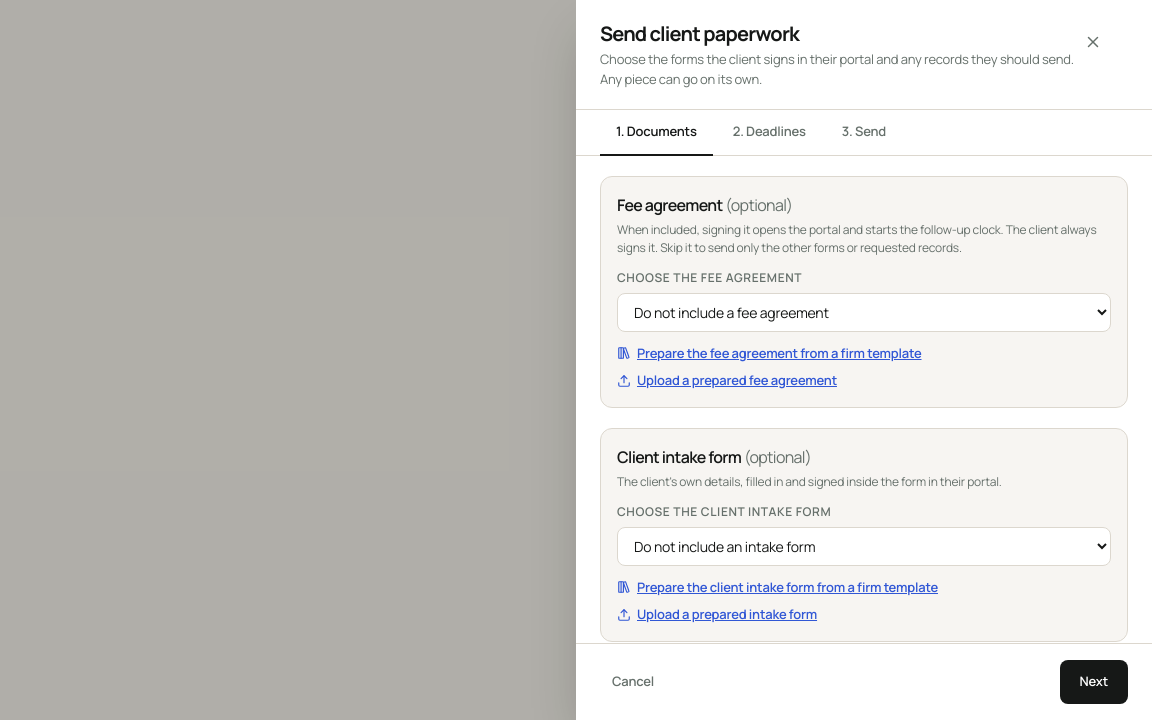
Test case: previews the exact branded message the client will receive
The width and height of the screenshot is (1152, 720).
# The preview waits for a sendable draft.
Step 1. Select "Client intake form.pdf" in the dropdown labelled "Choose the client intake form" → (864, 546), box [617,526,1111,566]
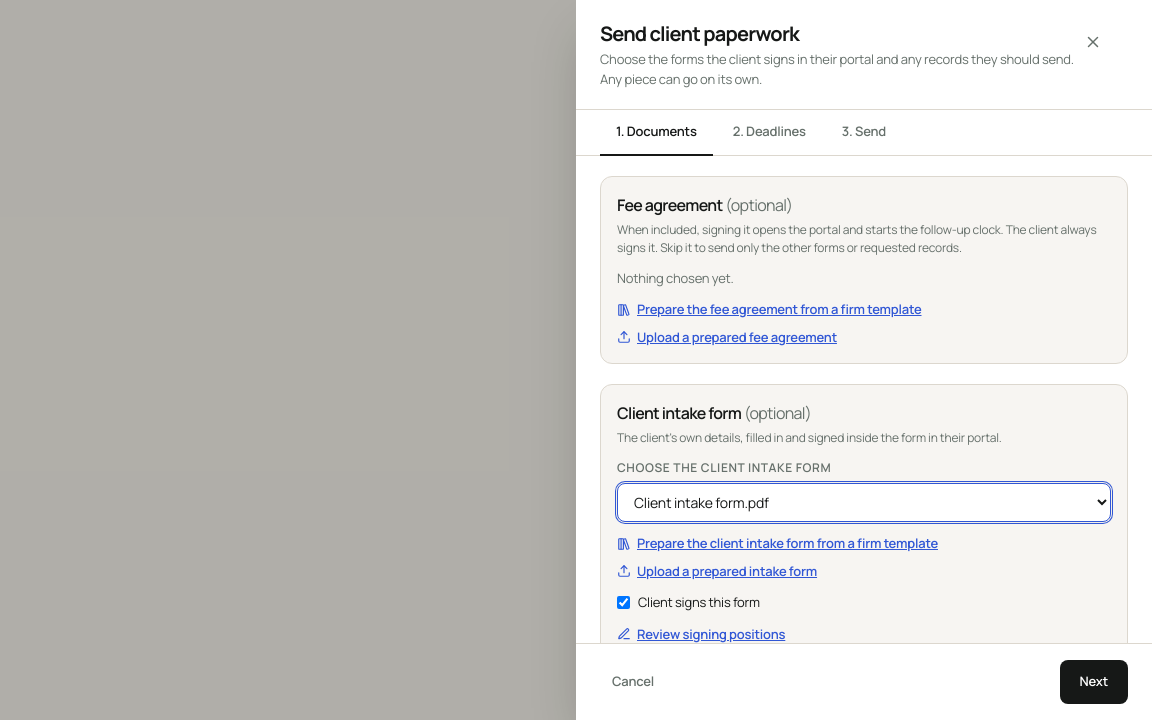
Step 2. Click the button "3. Send" → (864, 133), box [826,110,902,156]
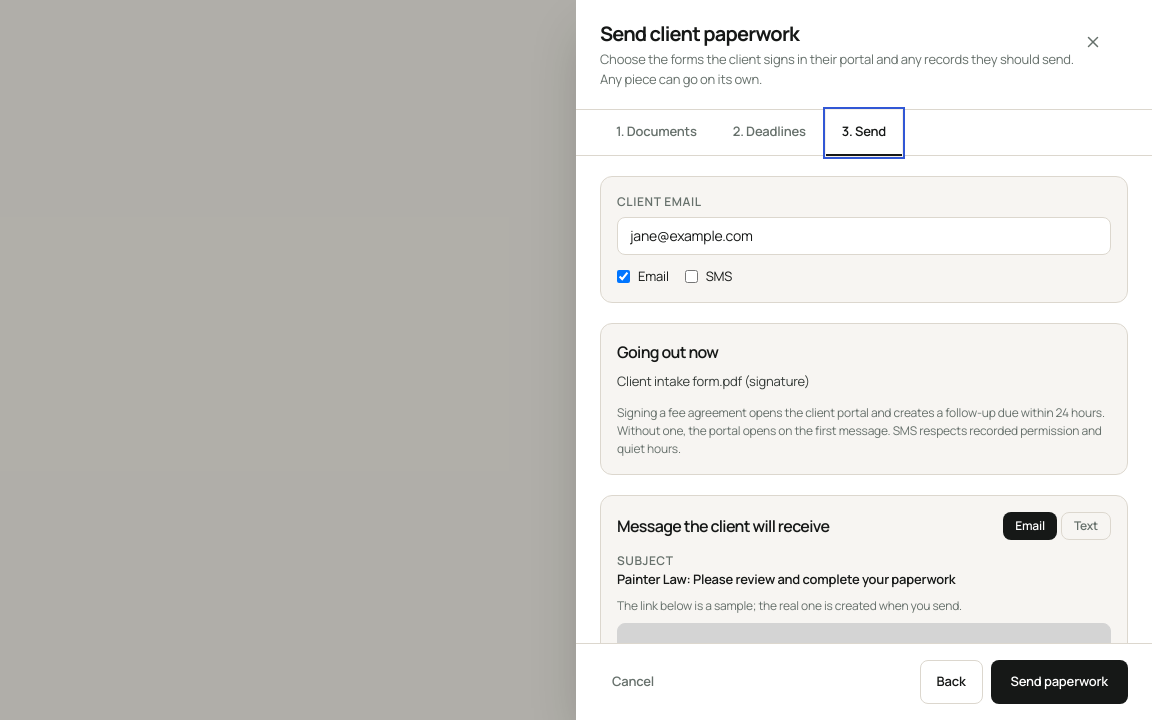
Result: the text "Painter Law: Please review and complete your paperwork" is shown at [617,570,955,588]
Step 3. Click the tab "Text" → (1086, 526), box [1061,512,1111,540]
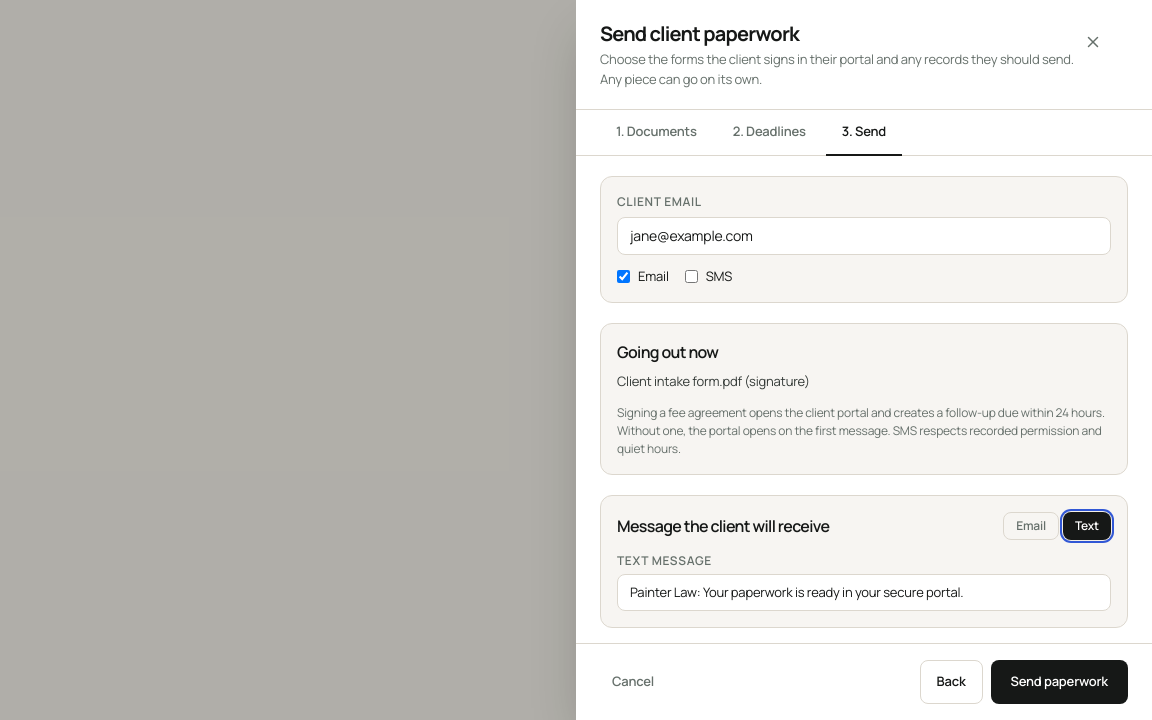
Result: the text "Painter Law: Your paperwork is ready in your secure portal." is shown at [617,574,1111,611]
